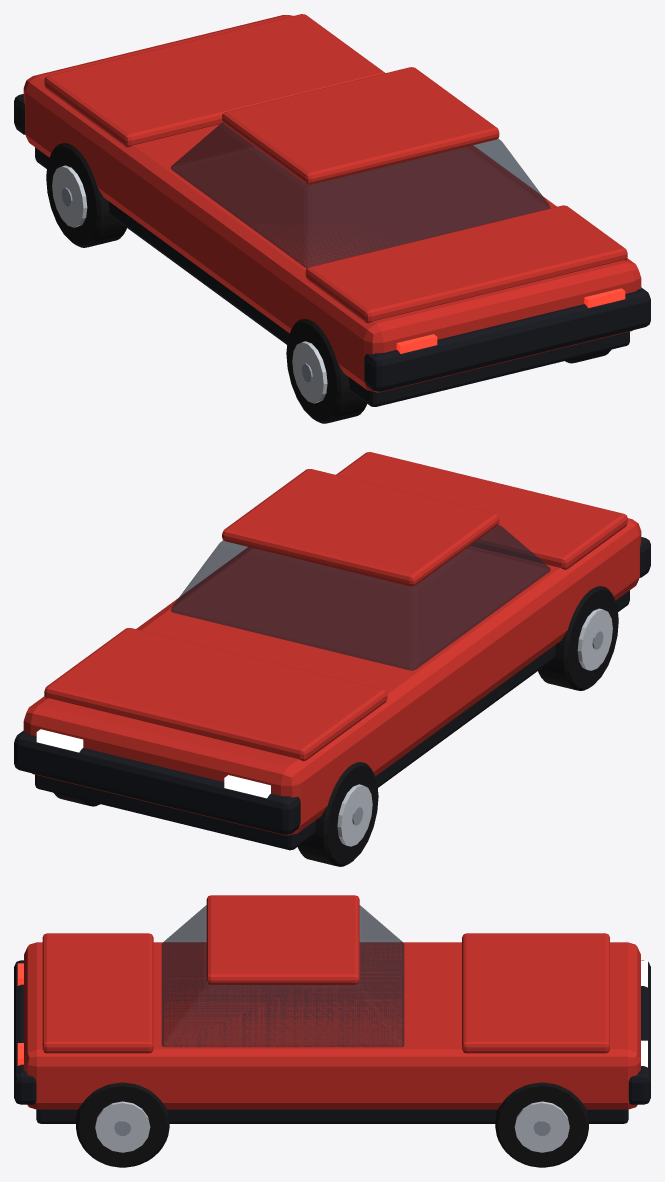
Rendered from veh_sports.glb.
3 views of the same model, one above another, from view 1: azimuth 30°, elevation 25°; view 2: azimuth 150°, elevation 25°; view 3: azimuth 270°, elevation 25° (orthographic). The views are drawn at different scales.
Visible parts, largest first — view 1: Body, Glass, Hood, Boot, Roof, Bumper_R, Skirt, Wheel_RL, Wheel_FL, Wheel_FL_Rim, Wheel_RL_Rim; view 2: Body, Glass, Hood, Roof, Boot, Bumper_F, Skirt, Wheel_FL, Wheel_RL, Wheel_FL_Rim, Wheel_RL_Rim, Headlight_R (+1 smaller); view 3: Body, Glass, Hood, Roof, Boot, Skirt, Wheel_FR, Wheel_RR, Wheel_FR_Rim, Wheel_RR_Rim, Bumper_R, Bumper_F.
Boxes of the visible parts, x1=… form: Body: x1=23, y1=15, x2=641, y2=392; Glass: x1=171, y1=123, x2=550, y2=267; Hood: x1=44, y1=14, x2=385, y2=147; Boot: x1=305, y1=205, x2=627, y2=323; Roof: x1=222, y1=67, x2=499, y2=184; Bumper_R: x1=364, y1=287, x2=650, y2=391; Skirt: x1=35, y1=147, x2=629, y2=406; Wheel_RL: x1=286, y1=319, x2=366, y2=423; Wheel_FL: x1=46, y1=143, x2=126, y2=247; Wheel_FL_Rim: x1=52, y1=165, x2=87, y2=227; Wheel_RL_Rim: x1=292, y1=341, x2=327, y2=403; Body: x1=23, y1=518, x2=641, y2=835; Glass: x1=171, y1=524, x2=550, y2=670; Hood: x1=44, y1=628, x2=387, y2=761; Roof: x1=222, y1=469, x2=499, y2=586; Boot: x1=336, y1=452, x2=627, y2=569; Bumper_F: x1=14, y1=730, x2=300, y2=834; Skirt: x1=35, y1=590, x2=629, y2=850; Wheel_FL: x1=298, y1=762, x2=378, y2=866; Wheel_RL: x1=538, y1=586, x2=618, y2=690; Wheel_FL_Rim: x1=337, y1=784, x2=372, y2=846; Wheel_RL_Rim: x1=577, y1=608, x2=612, y2=670; Headlight_R: x1=36, y1=729, x2=83, y2=752; Body: x1=24, y1=942, x2=640, y2=1109; Glass: x1=161, y1=905, x2=404, y2=1047; Hood: x1=462, y1=933, x2=609, y2=1053; Roof: x1=206, y1=895, x2=359, y2=984; Boot: x1=42, y1=933, x2=153, y2=1053; Skirt: x1=36, y1=1109, x2=628, y2=1123; Wheel_FR: x1=495, y1=1082, x2=588, y2=1167; Wheel_RR: x1=76, y1=1082, x2=169, y2=1167; Wheel_FR_Rim: x1=514, y1=1101, x2=569, y2=1152; Wheel_RR_Rim: x1=95, y1=1101, x2=150, y2=1152; Bumper_R: x1=14, y1=960, x2=36, y2=1104; Bumper_F: x1=628, y1=960, x2=650, y2=1104.
Size of the model in its own units: 2.05 by 1.34 by 4.44.
